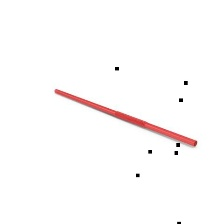drinking_straw: (48, 83, 202, 151)
